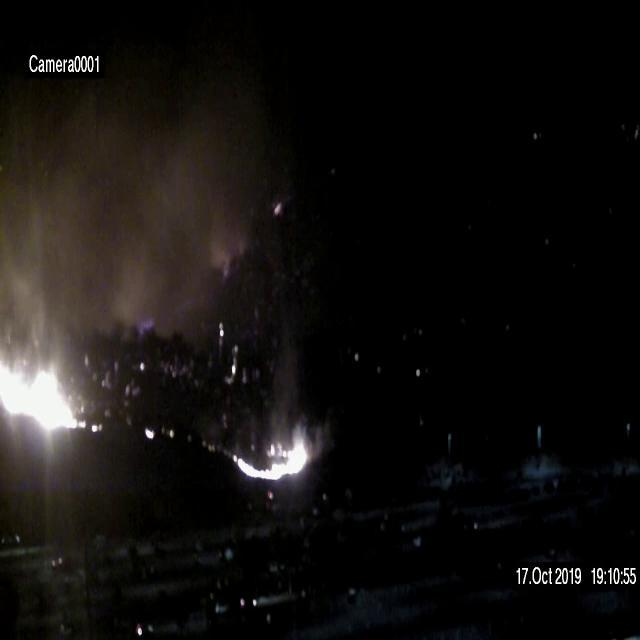Fire: (1, 362, 77, 434), (236, 441, 310, 483)
Smoke: (4, 97, 250, 359)
